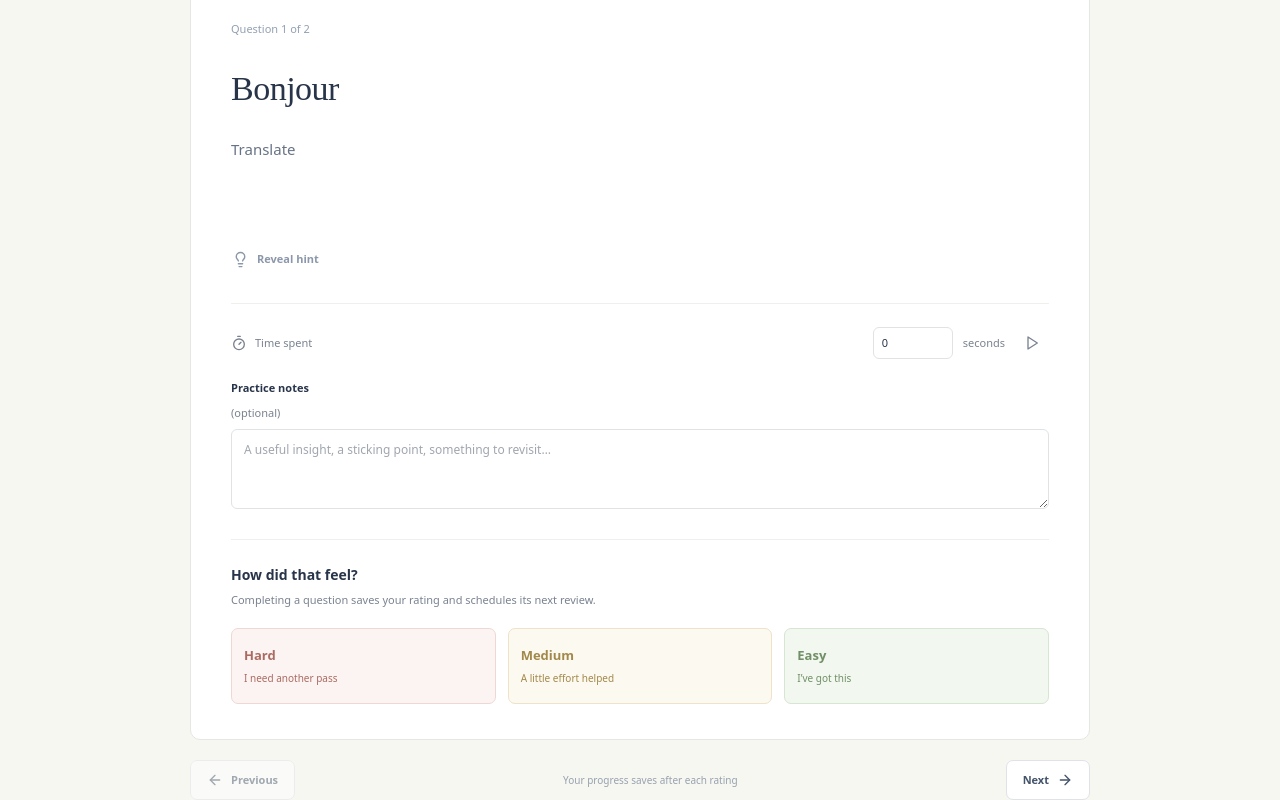
practice workspace › navigates questions and persists a rating before advancing
This screenshot has width=1280, height=800.
(page scrolled)
Expected: the heading "Bonjour" is shown, [231,70,339,107]
Click the button with aria-label "Next question" at [1048, 780], box [1006,760,1090,799]
(page scrolled)
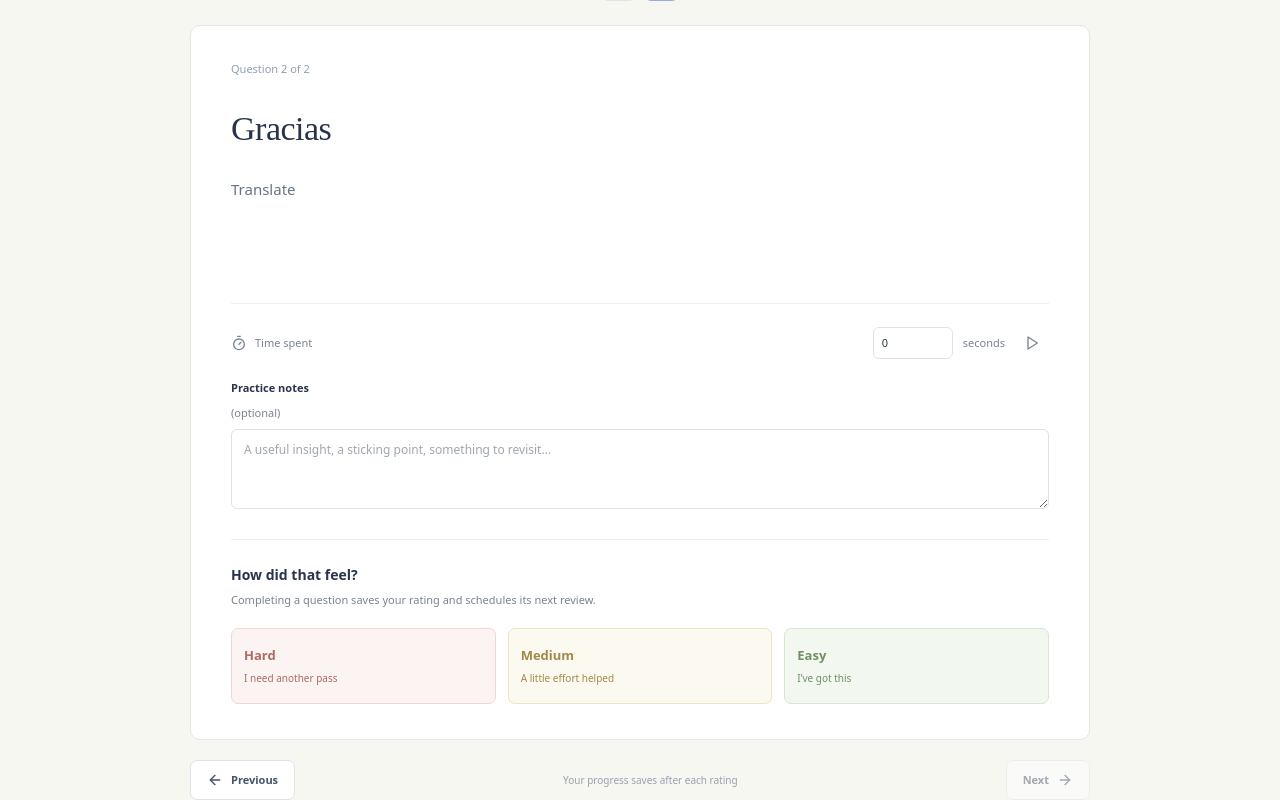
Now the heading "Gracias" is shown, box [231,110,331,147]
Click the button with aria-label "Previous question" at [243, 780], box [190,760,295,799]
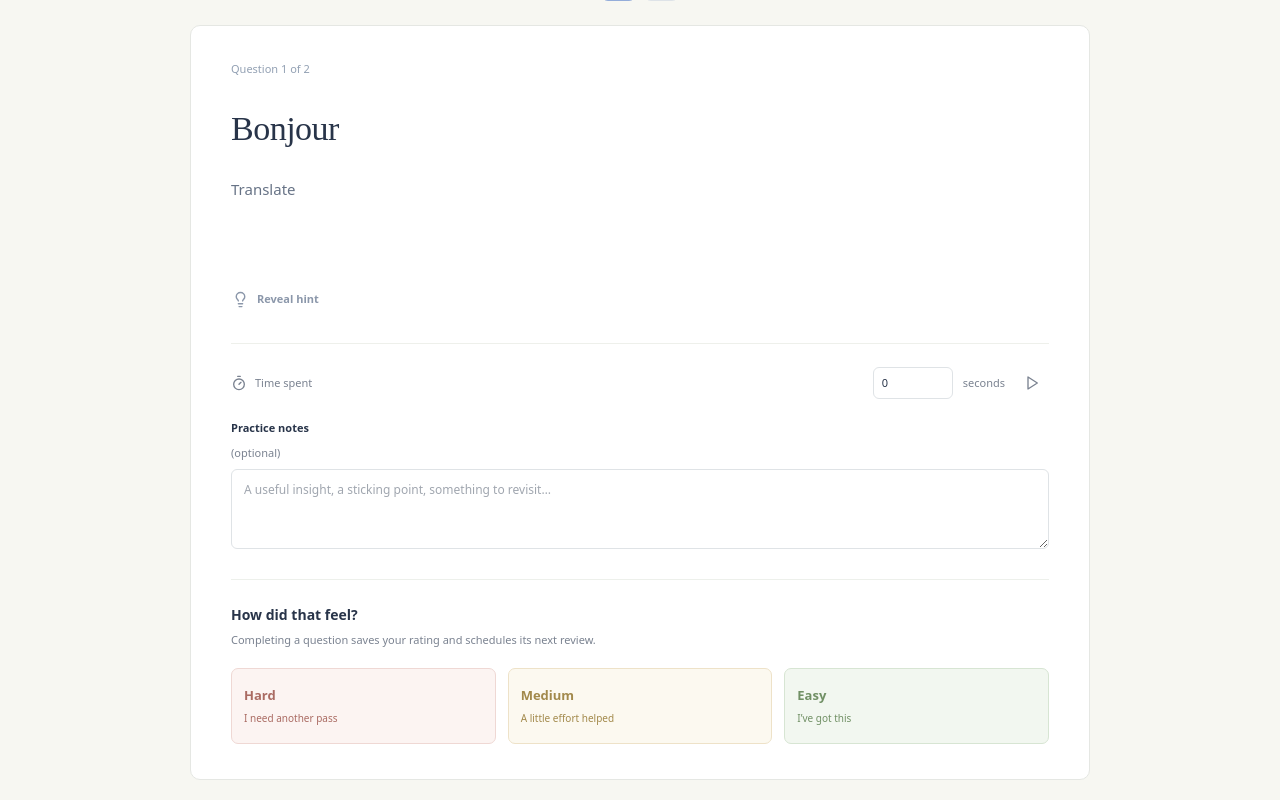
Click the button "Easy I’ve got this" at [824, 718], box [784,668,1049,744]
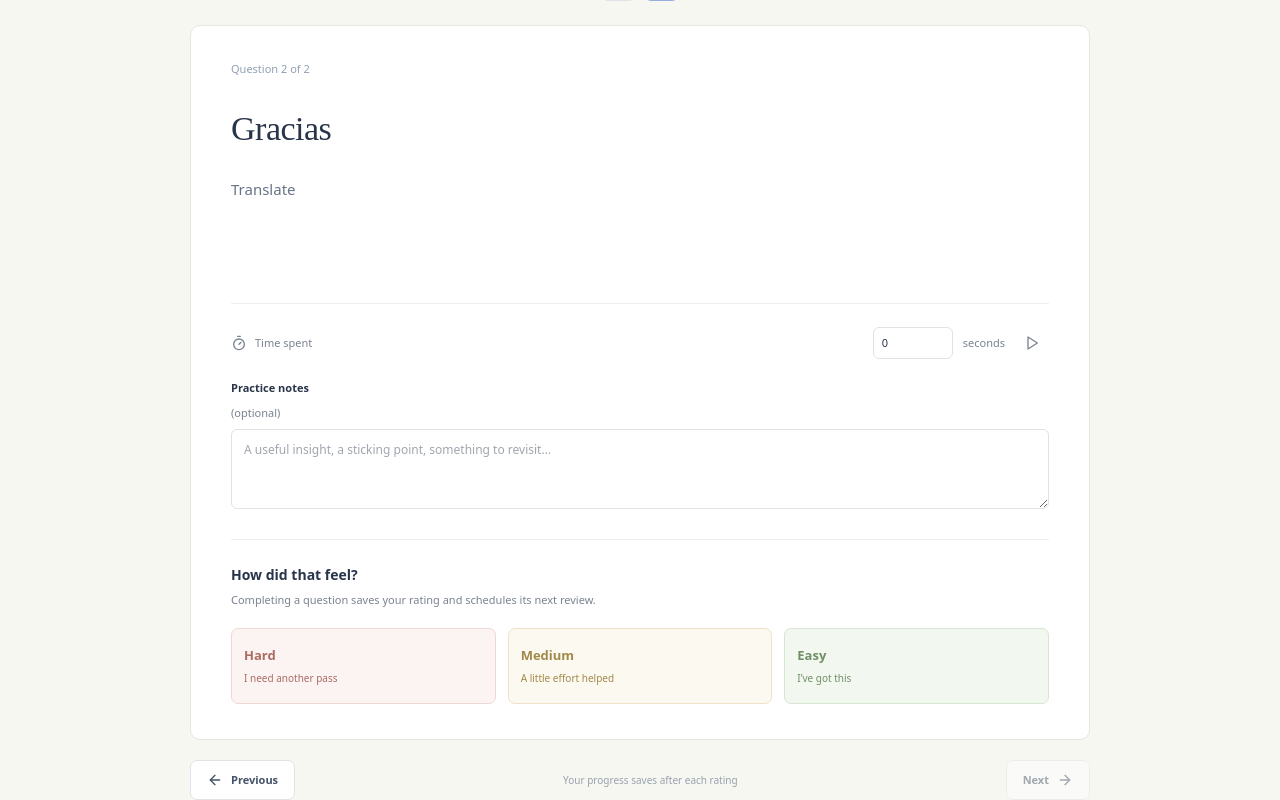
Now the heading "Gracias" is shown, box [231,110,331,147]
